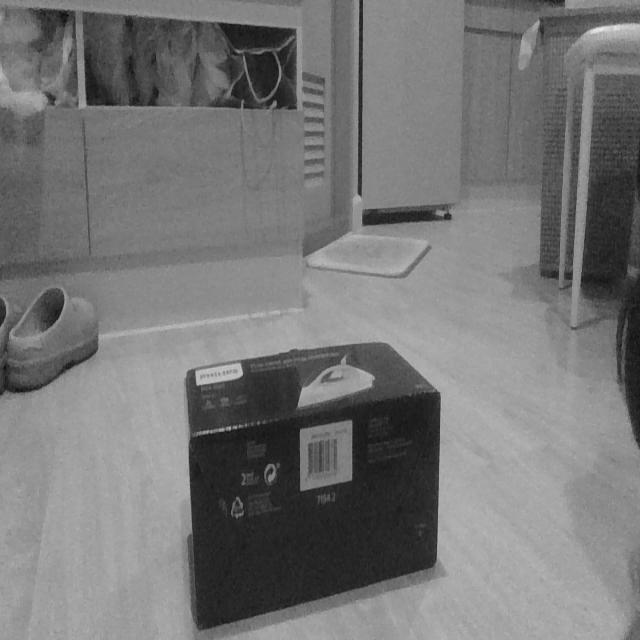IRON: (182, 337, 443, 631)
